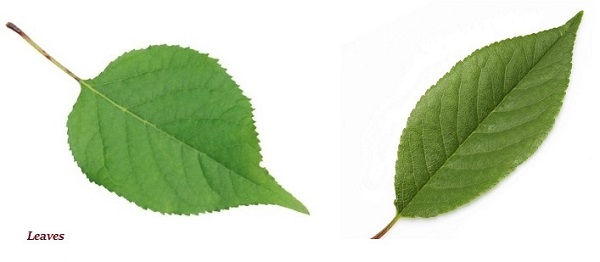healthy: (56, 39, 330, 245), (381, 19, 580, 223)
